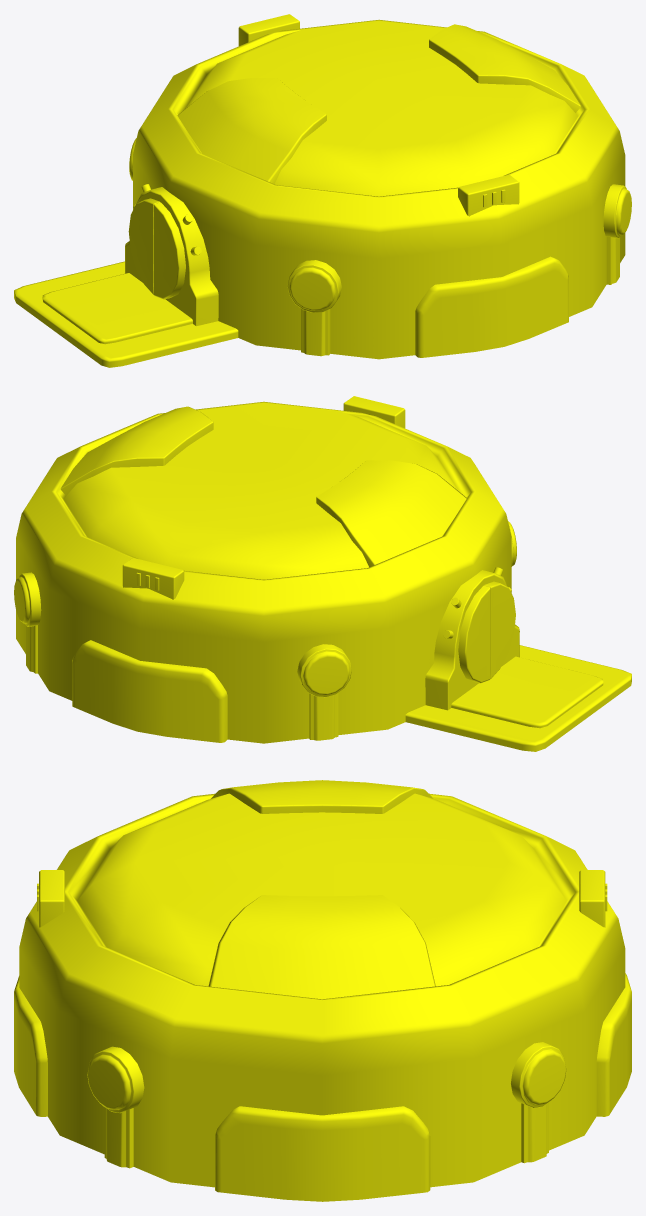
File: main_house.glb
3 renders of one model, top to bottom at view 1: azimuth 30°, elevation 25°; view 2: azimuth 150°, elevation 25°; view 3: azimuth 270°, elevation 25°, orthographic. The views are drawn at different scales.
Visible parts, largest first — view 1: Main_house; view 2: Main_house; view 3: Main_house.
Part boxes in pixels (left/top/right/bottom): Main_house: left=14, top=14, right=631, bottom=367; Main_house: left=14, top=396, right=631, bottom=751; Main_house: left=14, top=780, right=631, bottom=1201.
Bounding box in the file's own units: 13.85 × 4.43 × 11.19.
Materials: 1 (1 with a texture image).
